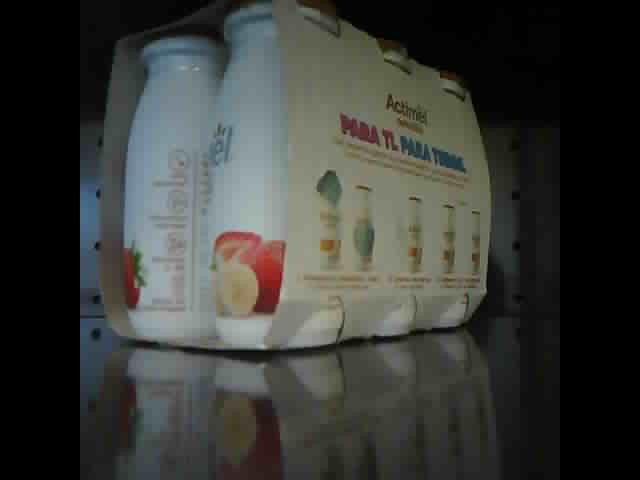actimel: (102, 5, 494, 352)
